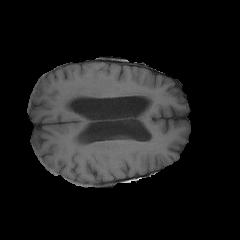glioma: (61, 77, 156, 108)
